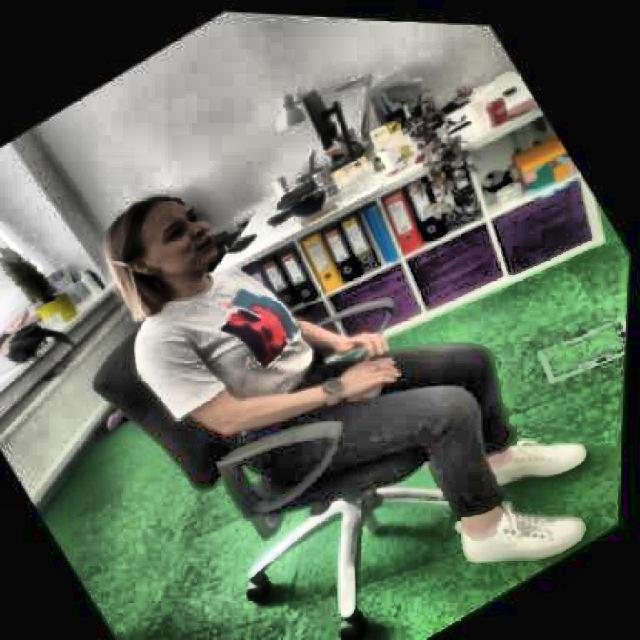cadeira: (68, 184, 575, 638)
